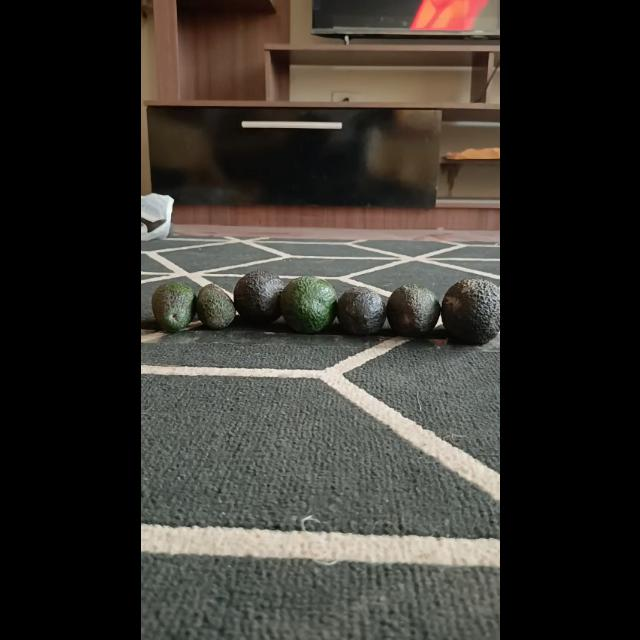Primera: (440, 278, 500, 344), (278, 276, 338, 332), (232, 270, 284, 324)
Segunda: (384, 282, 442, 338), (334, 285, 388, 335), (149, 281, 195, 333)
Tercera: (193, 282, 235, 330)
